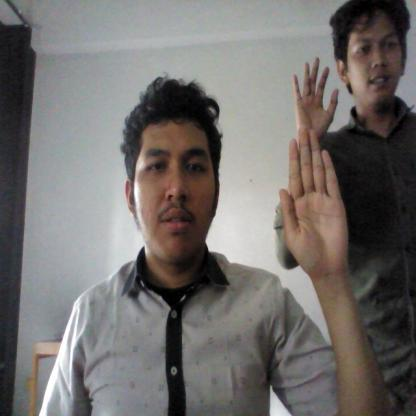Halo: (268, 121, 355, 304)
